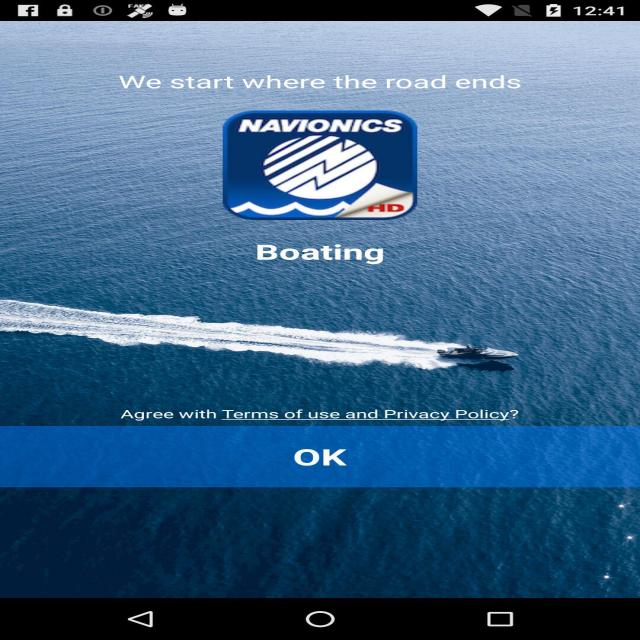icon: (189, 106, 522, 233)
image: (35, 38, 593, 604)
